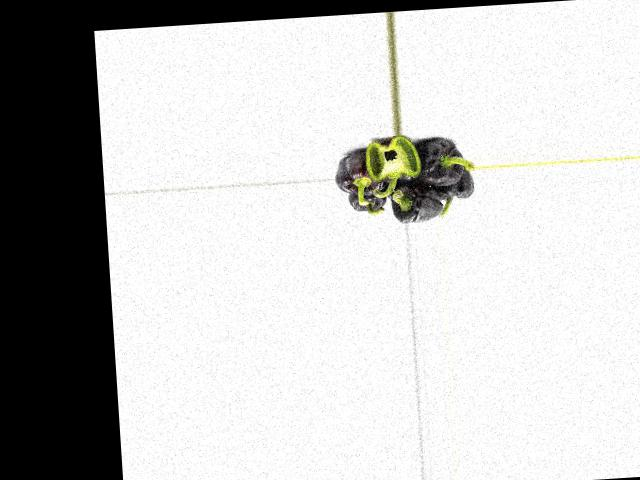bell_pepper: (335, 150, 394, 196)
